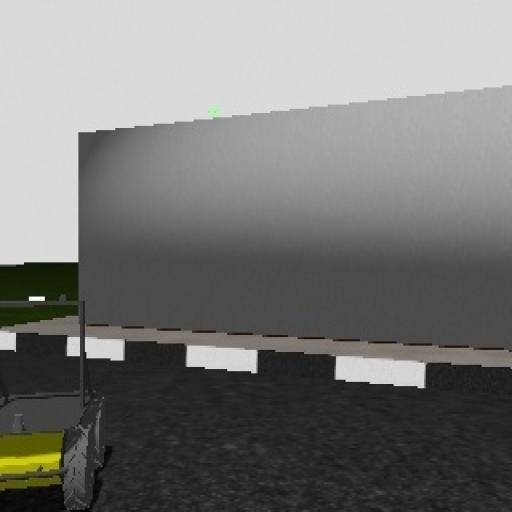huskya200: (1, 281, 105, 512)
